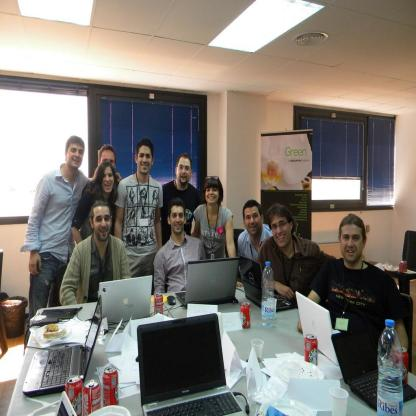board: (130, 298, 242, 408), (22, 294, 102, 398), (332, 331, 416, 410), (237, 254, 295, 311), (175, 258, 239, 309), (295, 292, 340, 364), (97, 275, 152, 326), (377, 320, 403, 416), (262, 261, 276, 330), (66, 375, 83, 415), (102, 367, 119, 405), (393, 346, 408, 386), (329, 387, 349, 416), (84, 380, 100, 415), (56, 391, 77, 416), (305, 332, 319, 364), (251, 339, 265, 362), (240, 303, 251, 329), (155, 292, 163, 316), (399, 261, 407, 275)
